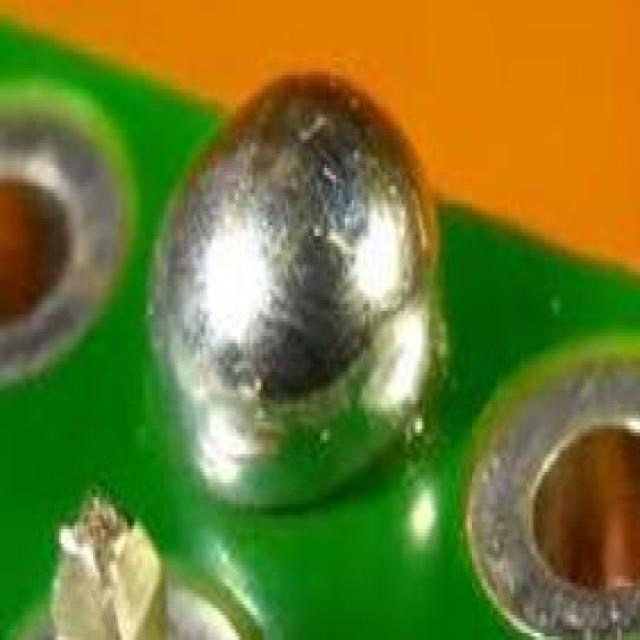redundant: (155, 75, 436, 503)
